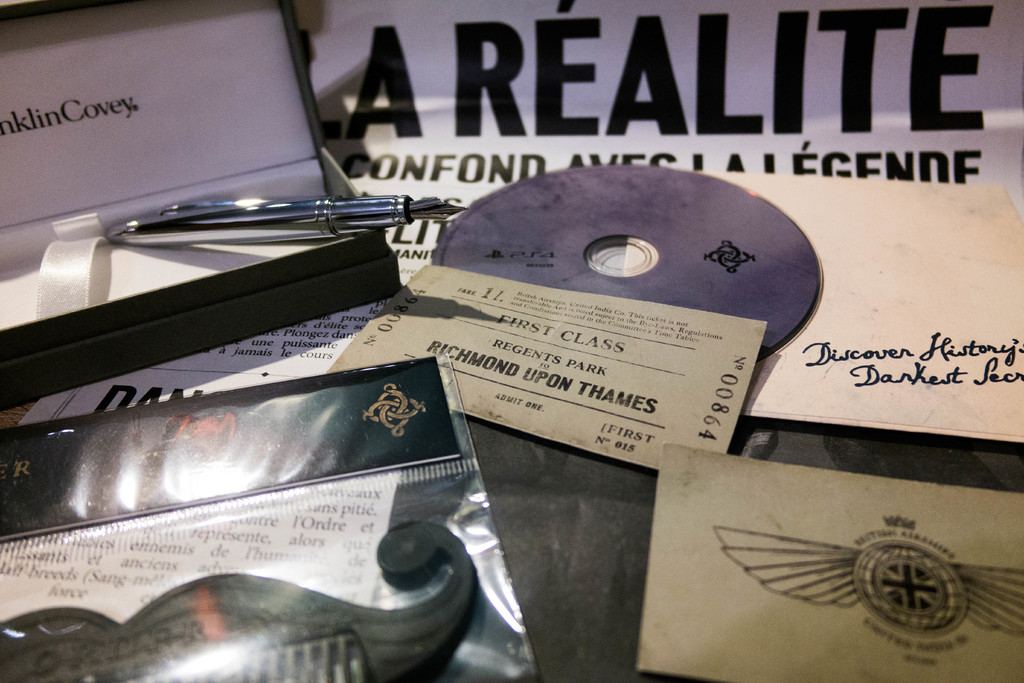Pen: (99, 190, 465, 251)
